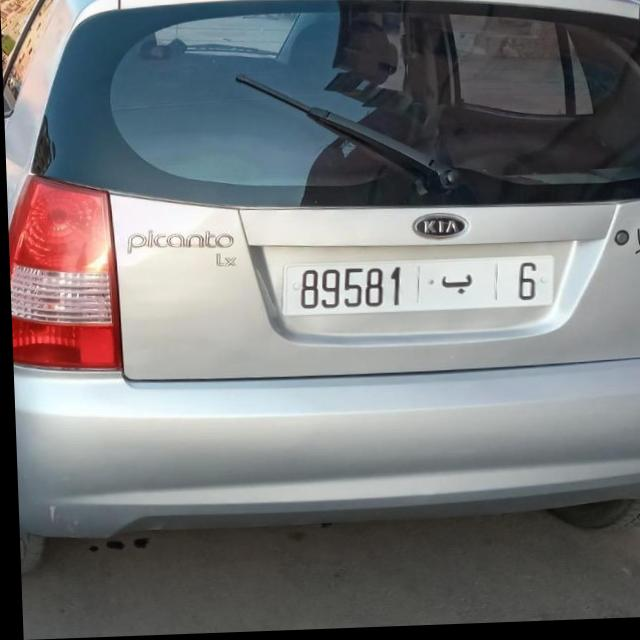License-Plate: (280, 261, 551, 318)
